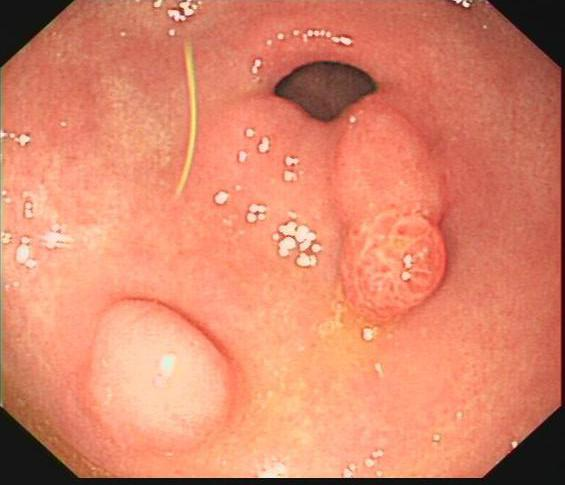Polyp: (84, 299, 242, 440), (334, 214, 453, 330)
